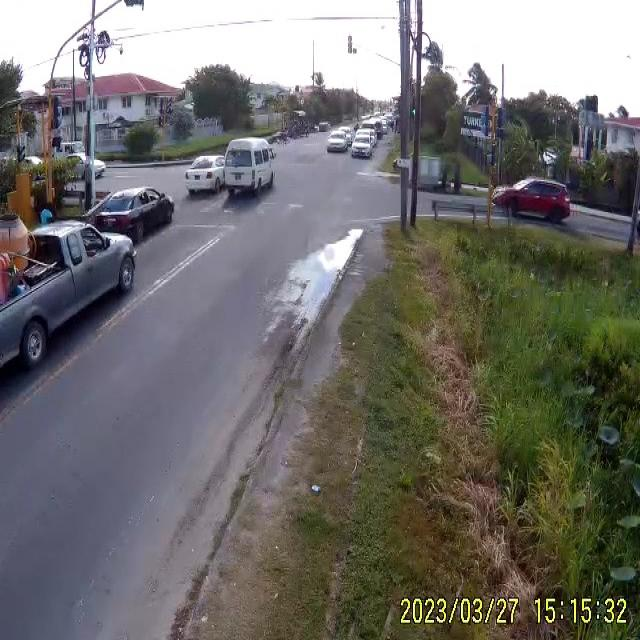car: (1, 218, 136, 399), (84, 188, 174, 244), (492, 179, 572, 223), (221, 138, 276, 194), (185, 156, 222, 195), (326, 130, 350, 155), (352, 134, 374, 158)
